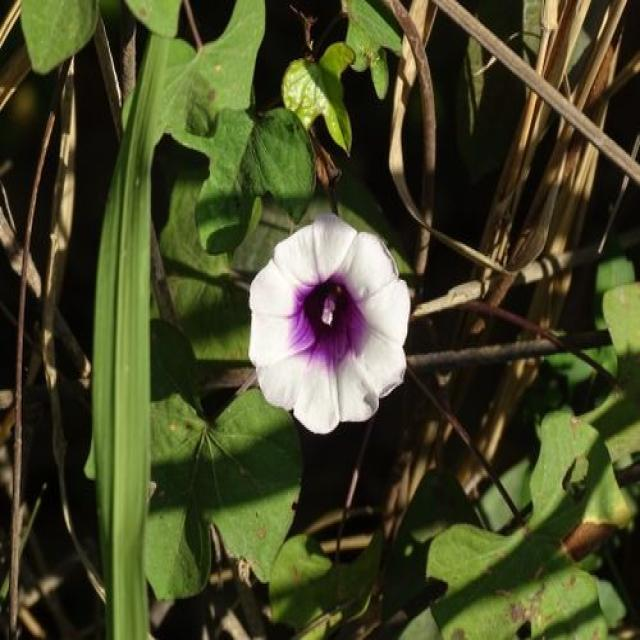ipomoea: (245, 210, 414, 439)
